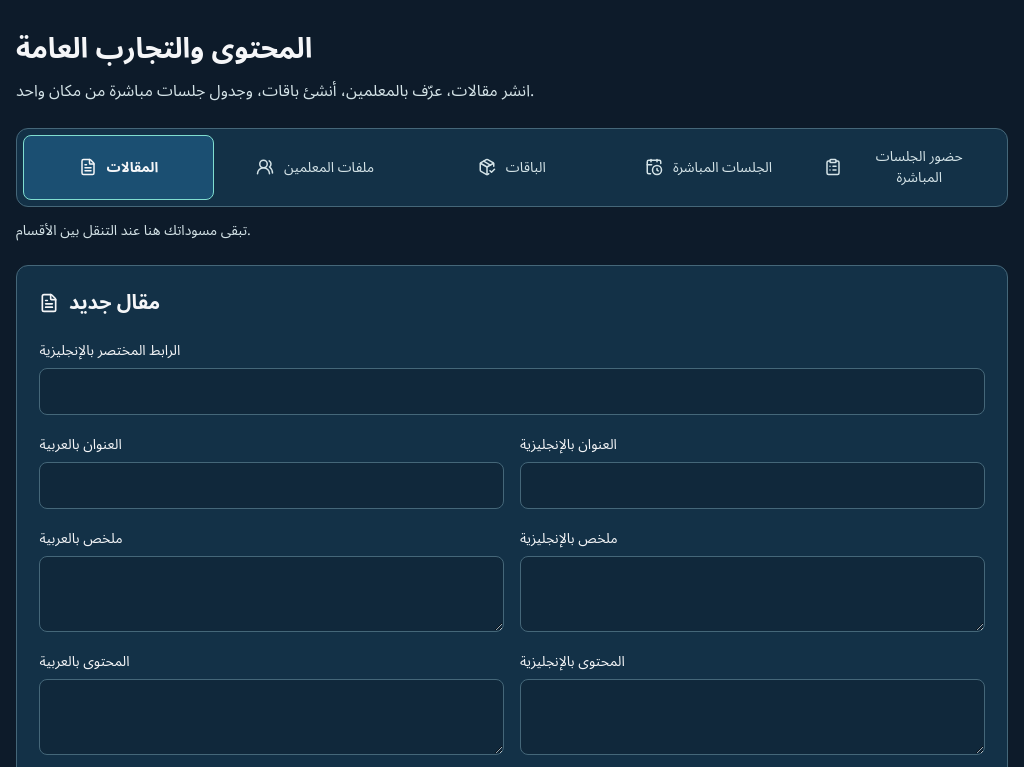
Scenario: localizes the non-Error fallback for article without changing its request
Click the button "المقالات": x=119, y=167 [23,135,214,200]
(page scrolled)
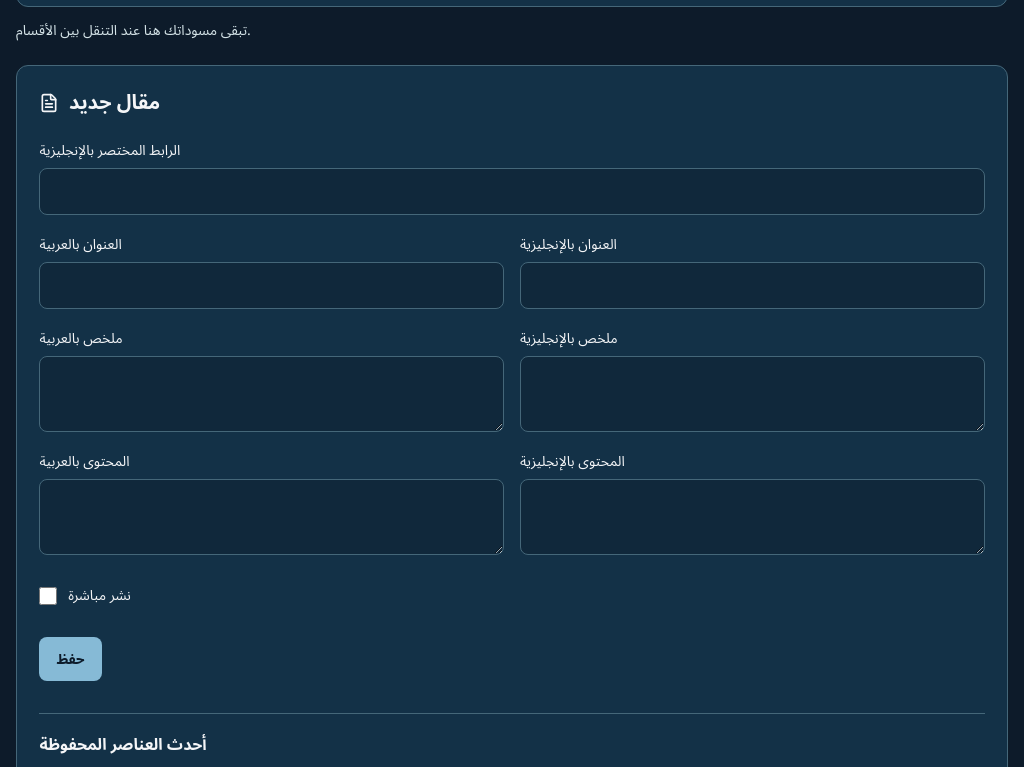
Submit the form
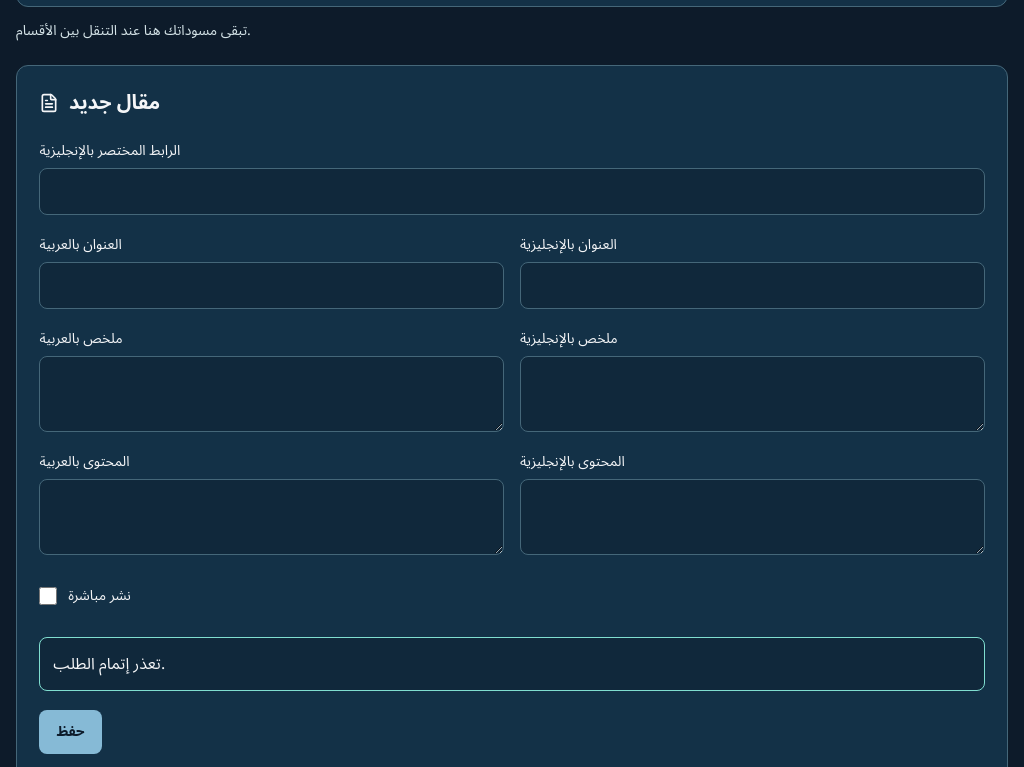
Expected: the message reads "تعذر إتمام الطلب.", [53,647,165,681]
